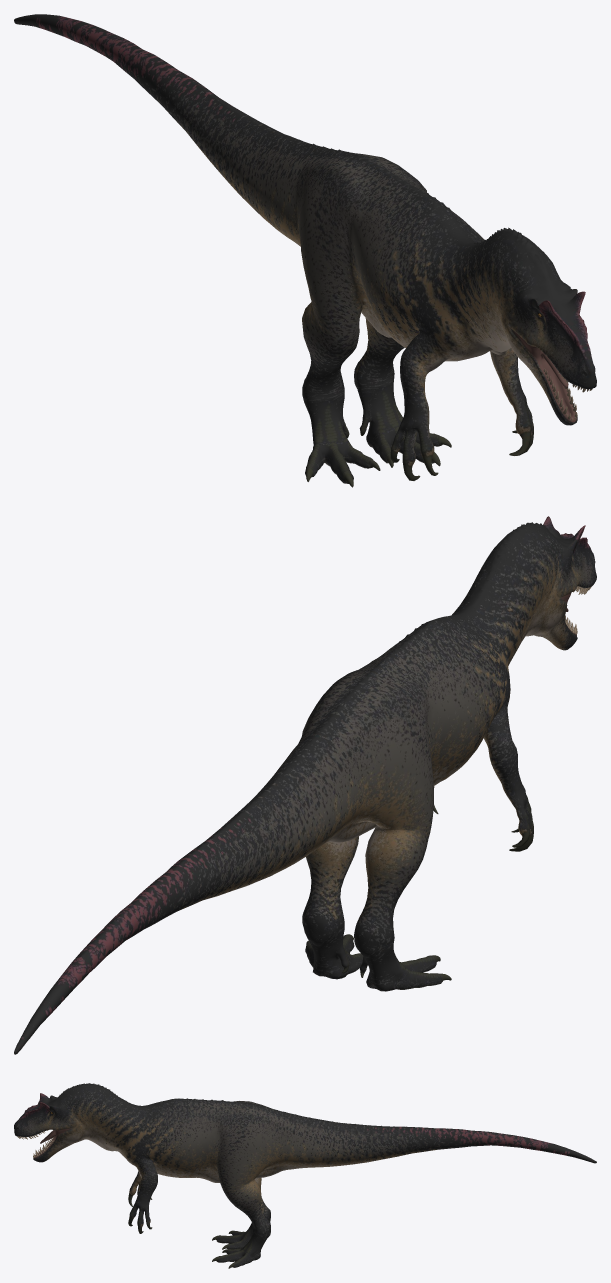
Rendered from Alosaurio.glb.
The picture shows the model from 3 angles, top to bottom: view 1: azimuth 30°, elevation 25°; view 2: azimuth 150°, elevation 25°; view 3: azimuth 270°, elevation 25°; orthographic projection. The views are drawn at different scales.
Visible parts, largest first — view 1: DW_Alosaurio_Adulto_Mayor_mesh; view 2: DW_Alosaurio_Adulto_Mayor_mesh; view 3: DW_Alosaurio_Adulto_Mayor_mesh.
Part boxes in pixels (x1,y1,x2,y2): DW_Alosaurio_Adulto_Mayor_mesh: (14,14,596,487); DW_Alosaurio_Adulto_Mayor_mesh: (14,516,596,1054); DW_Alosaurio_Adulto_Mayor_mesh: (14,1083,596,1268).
Size of the model in its own units: 0.1436 by 0.3201 by 1.
2 materials, 2 textured.
